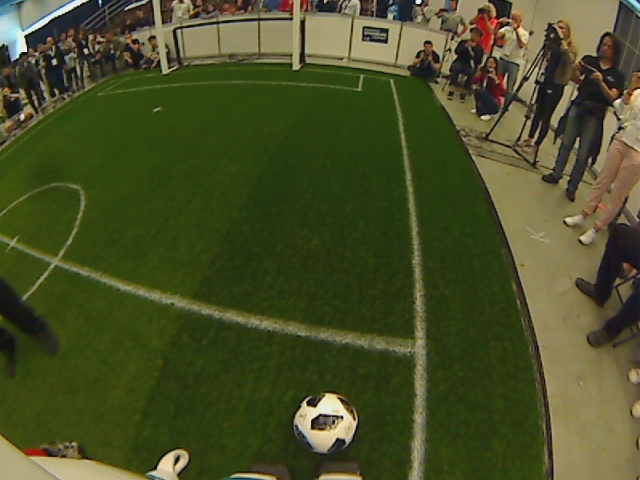ball: (292, 390, 360, 459)
